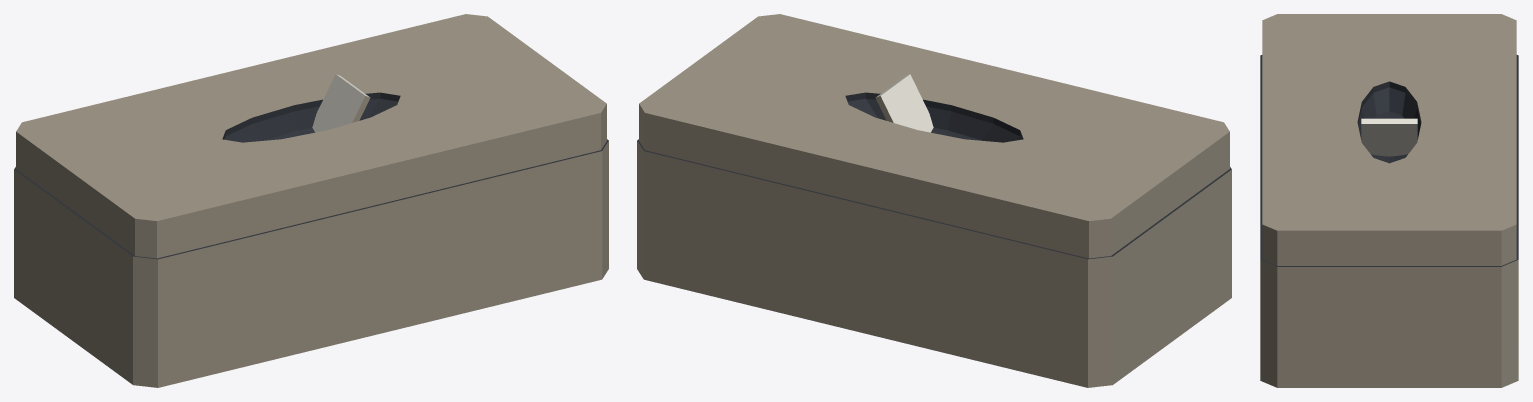
The model's file is tissue_box.glb.
3 renders of one model, left to right at view 1: azimuth 30°, elevation 25°; view 2: azimuth 150°, elevation 25°; view 3: azimuth 270°, elevation 25°, orthographic. The views are drawn at different scales.
Parts seen in each view (by area): view 1: tissue_box; view 2: tissue_box; view 3: tissue_box.
Boxes of the visible parts, left/top/right/bottom form: tissue_box: left=14, top=14, right=608, bottom=387; tissue_box: left=637, top=14, right=1231, bottom=387; tissue_box: left=1260, top=14, right=1518, bottom=387.
Bounding box in the file's own units: 0.24 × 0.0911 × 0.12.
